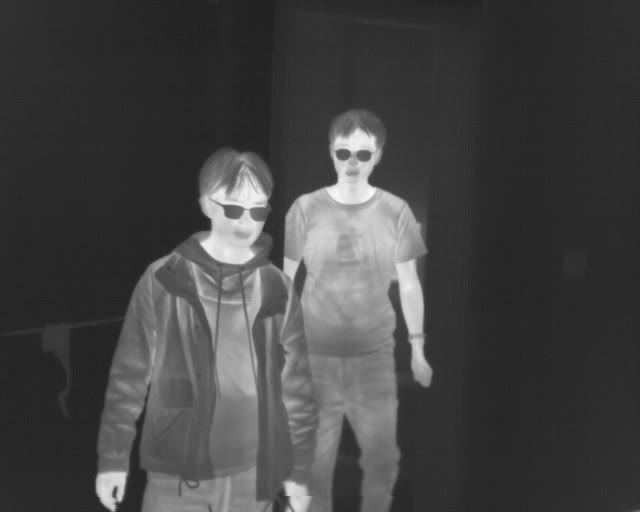face: (198, 145, 272, 248), (327, 107, 385, 188)
